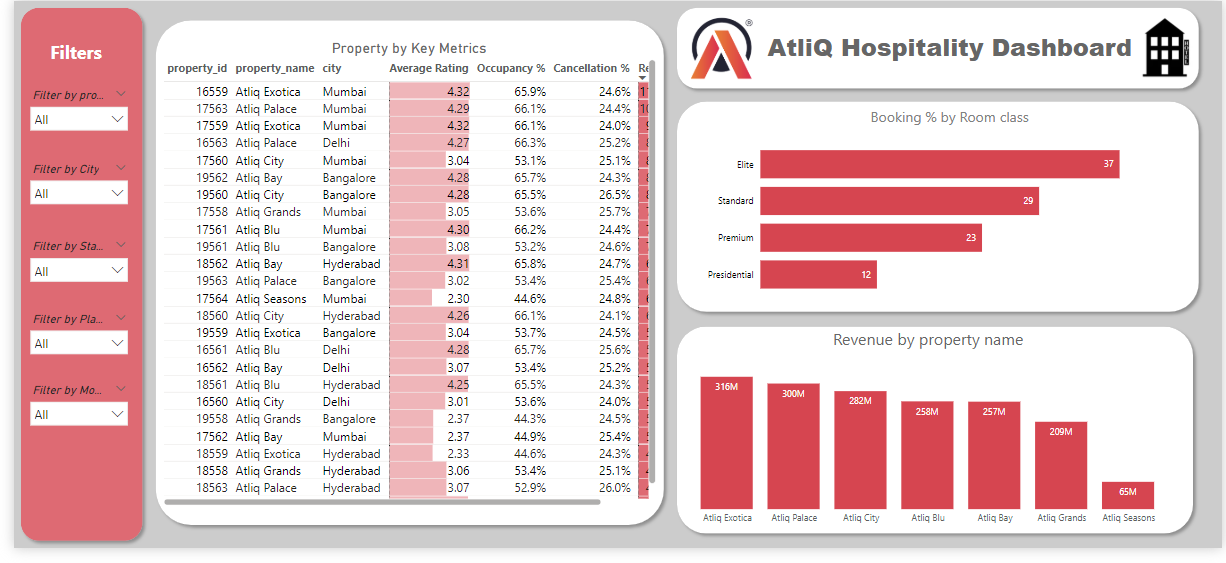

Layout of this report page (visuals, bound fields, positions):
{"tool":"powerbi","page":{"name":"Page 2","canvas":[1610,730],"ordinal":1},"visuals":[{"type":"shape","box":[180.3,16.7,695.5,690.9],"z":0},{"type":"tableEx","title":"Property by Key Metrics","fields":{"Values":["dim_hotels.property_id","dim_hotels.property_name","dim_hotels.city","key_measures.Average Rating","key_measures.Occupancy %","key_measures.cancellation_rate","key_measures.Revenue"]},"box":[194,52,667,626],"z":1000},{"type":"shape","box":[0,0,180.3,728.8],"z":2000},{"type":"slicer","fields":{"Values":["dim_date.mmm yy"]},"box":[11.4,504.3,150,71.4],"z":4000},{"type":"slicer","fields":{"Values":["fact_bookings.booking_platform"]},"box":[11.4,410,150,71.4],"z":5000},{"type":"slicer","fields":{"Values":["fact_bookings.booking_status"]},"box":[11.4,312.9,150,71.4],"z":6000},{"type":"slicer","fields":{"Values":["dim_hotels.city"]},"box":[11.4,210,150,72.9],"z":7000},{"type":"slicer","fields":{"Values":["dim_rooms.room_class"]},"box":[11.4,111.4,150,71.4],"z":8000},{"type":"textbox","box":[42.9,47.1,87.1,47.1],"z":9000},{"type":"shape","box":[875.8,0,713.6,125.8],"z":10000},{"type":"image","box":[897,13.6,95.5,98.5],"z":11000},{"type":"textbox","box":[992.4,33.3,512.1,60.6],"z":12000},{"type":"image","box":[1483.3,16.7,106.1,95.5],"z":13000},{"type":"shape","box":[875.8,125.8,713.6,298.5],"z":14000},{"type":"clusteredBarChart","title":"Booking % by Room class ","fields":{"Category":["dim_rooms.room_class"],"Y":["key_measures.Booking % by Room class"]},"box":[913.6,142.4,668.2,268.2],"z":15000},{"type":"shape","box":[875.8,424.2,706.1,293.9],"z":16000},{"type":"clusteredColumnChart","title":"Revenue by property name","fields":{"Y":["key_measures.Revenue"],"Category":["dim_hotels.property_name"]},"box":[875.8,434.8,687.9,272.7],"z":17000}]}

Visuals, with their boxes in screenshot pixels (x1, y1, x2, y2), scaled from the page's 1610x730 canvas onto the 1226x563 screenshot:
shape: locate(137, 13, 667, 546)
"Property by Key Metrics" tableEx: locate(148, 40, 656, 523)
shape: locate(0, 0, 137, 562)
slicer - dim_date.mmm yy: locate(9, 389, 123, 444)
slicer - fact_bookings.booking_platform: locate(9, 316, 123, 371)
slicer - fact_bookings.booking_status: locate(9, 241, 123, 296)
slicer - dim_hotels.city: locate(9, 162, 123, 218)
slicer - dim_rooms.room_class: locate(9, 86, 123, 141)
textbox: locate(33, 36, 99, 73)
shape: locate(667, 0, 1210, 97)
image: locate(683, 10, 756, 86)
textbox: locate(756, 26, 1146, 72)
image: locate(1130, 13, 1210, 87)
shape: locate(667, 97, 1210, 327)
"Booking % by Room class " clusteredBarChart: locate(696, 110, 1205, 317)
shape: locate(667, 327, 1205, 554)
"Revenue by property name" clusteredColumnChart: locate(667, 335, 1191, 546)
